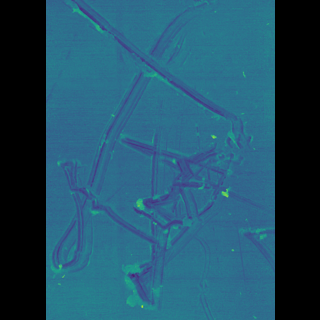Loch: (82, 0, 243, 312)
